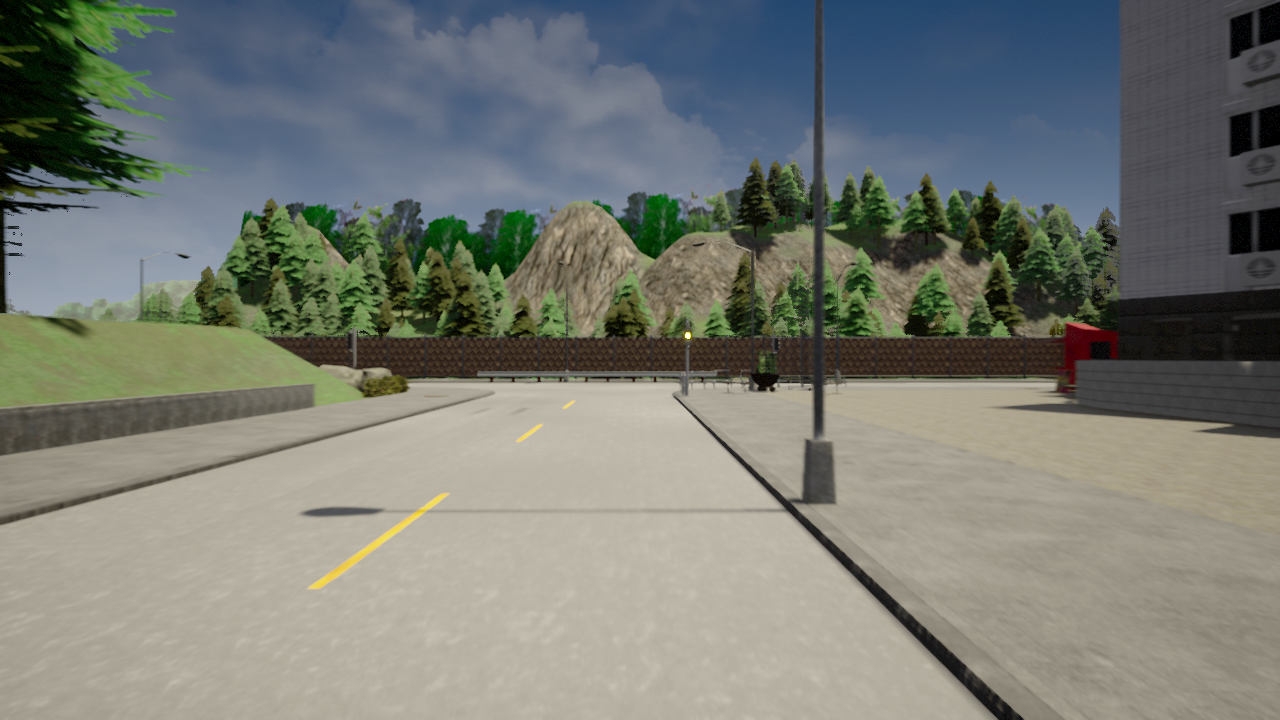yellow: (684, 325, 692, 347)
